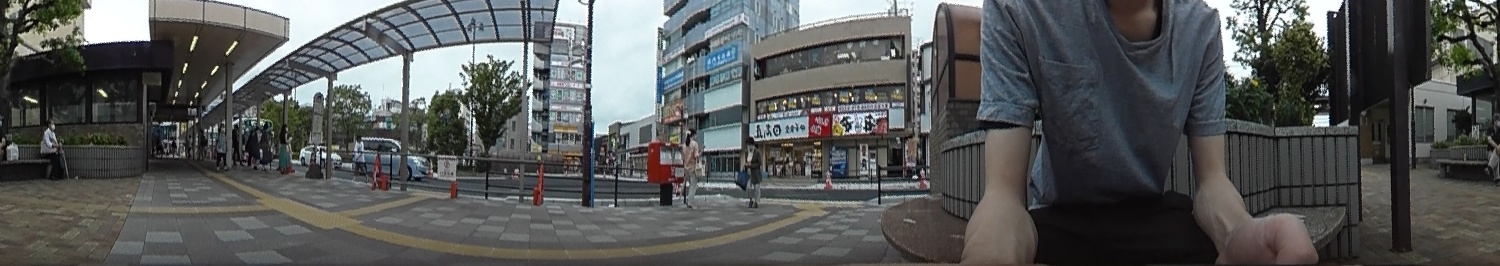difficult_person: (1479, 110, 1500, 187), (277, 122, 292, 177), (260, 119, 275, 169), (215, 121, 227, 172), (351, 135, 368, 171), (249, 127, 261, 170), (198, 128, 210, 157), (233, 123, 241, 164)
person: (679, 126, 703, 205), (42, 116, 69, 181), (742, 135, 767, 204)
